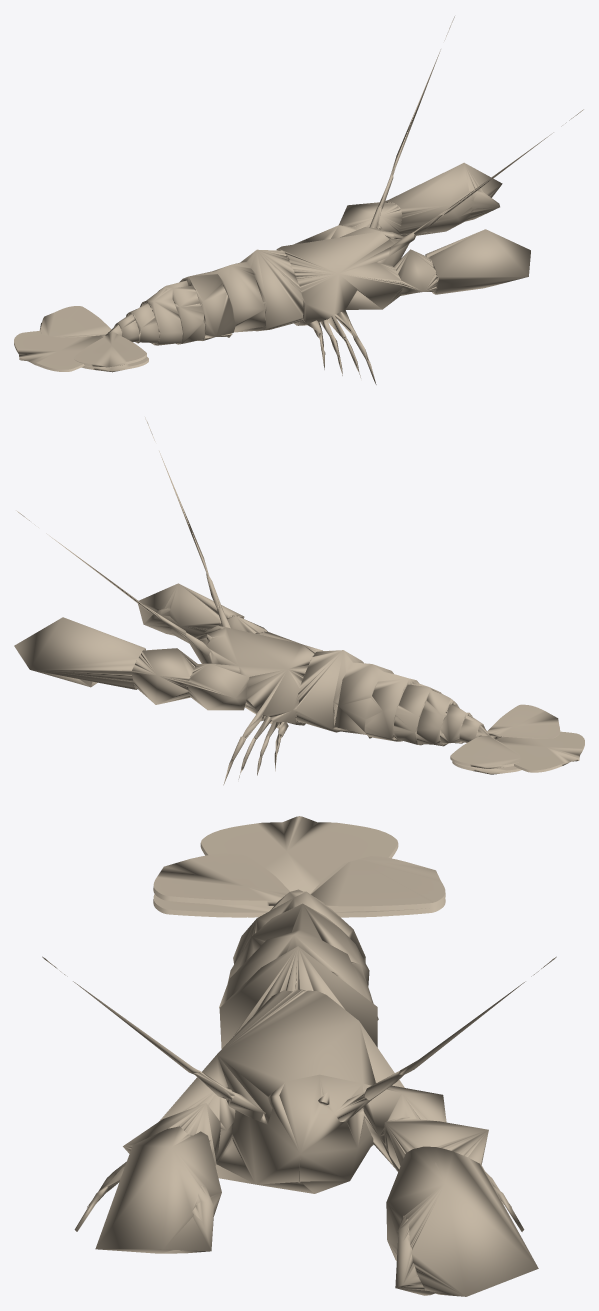
File: 3dcodebench_Lobster_seed0.glb
The picture shows the model from 3 angles, top to bottom: view 1: azimuth 30°, elevation 25°; view 2: azimuth 150°, elevation 25°; view 3: azimuth 270°, elevation 25°; orthographic projection. The views are drawn at different scales.
Parts seen in each view (by area): view 1: object; view 2: object; view 3: object.
Part boxes in pixels (x1,y1,x2,y2): object: [14, 16, 583, 384]; object: [14, 417, 584, 785]; object: [42, 816, 556, 1296].
Size of the model in its own units: 2.74 by 1.18 by 1.17.
